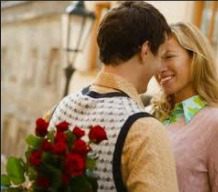RedRose: (65, 154, 88, 176), (72, 136, 92, 159), (87, 123, 106, 146), (31, 117, 50, 136), (57, 119, 74, 132), (40, 140, 54, 153), (36, 174, 54, 184), (54, 141, 67, 153), (31, 148, 42, 162), (74, 127, 85, 138)
